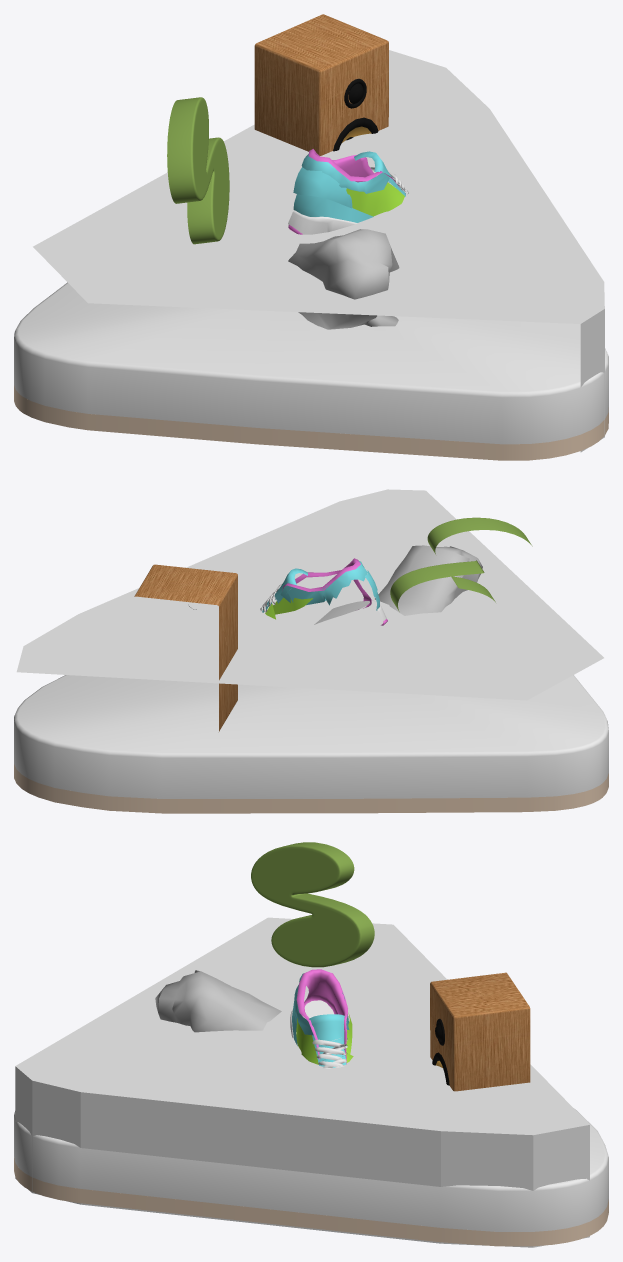
Rendered from spark-transformed.glb.
3 views of the same model, one above another, from view 1: azimuth 30°, elevation 25°; view 2: azimuth 150°, elevation 25°; view 3: azimuth 270°, elevation 25° (orthographic). The views are drawn at different scales.
Parts seen in each view (by area): view 1: sparkIntersection, sparkWater, sparkSpeakerWood, sparkSand, sparkLogo, sparkRock, sparkShoeBlue, sparkShoeGreen, sparkShoePink, sparkShoeWhite, sparkSpeakerRubber; view 2: sparkWater, sparkIntersection, sparkSand, sparkSpeakerWood, sparkRock, sparkLogo, sparkShoeBlue, sparkShoePink, sparkShoeWhite, sparkShoeGreen; view 3: sparkIntersection, sparkWater, sparkLogo, sparkSpeakerWood, sparkSand, sparkRock, sparkShoePink, sparkShoeBlue, sparkShoeWhite, sparkShoeGreen.
Part boxes in pixels (box(x1,y1,x2,y2)): sparkIntersection: box(33, 50, 604, 452); sparkWater: box(14, 282, 608, 444); sparkSpeakerWood: box(254, 14, 388, 155); sparkSand: box(14, 385, 608, 460); sparkLogo: box(167, 97, 229, 244); sparkRock: box(288, 229, 399, 329); sparkShoeBlue: box(293, 151, 405, 222); sparkShoeGreen: box(346, 182, 404, 216); sparkShoePink: box(288, 149, 399, 234); sparkShoeWhite: box(288, 167, 409, 234); sparkSpeakerRubber: box(333, 78, 378, 151); sparkWater: box(14, 675, 608, 798); sparkIntersection: box(16, 489, 603, 700); sparkSand: box(14, 764, 608, 813); sparkSpeakerWood: box(134, 564, 237, 731); sparkRock: box(375, 545, 482, 615); sparkLogo: box(390, 517, 532, 611); sparkShoeBlue: box(262, 561, 379, 612); sparkShoePink: box(282, 558, 387, 625); sparkShoeWhite: box(260, 584, 386, 624); sparkShoeGreen: box(265, 597, 312, 619); sparkIntersection: box(15, 917, 589, 1247); sparkWater: box(14, 1108, 608, 1231); sparkLogo: box(251, 842, 374, 967); sparkSpeakerWood: box(430, 972, 530, 1091); sparkSand: box(14, 1157, 608, 1246); sparkRock: box(155, 970, 281, 1032); sparkShoePink: box(296, 969, 347, 1064); sparkShoeBlue: box(292, 973, 349, 1067); sparkShoeWhite: box(290, 1000, 347, 1068); sparkShoeGreen: box(296, 1013, 353, 1064).
Bounding box in the file's own units: 80.66 × 38.98 × 87.76.
Materials: 10 (1 with a texture image).
